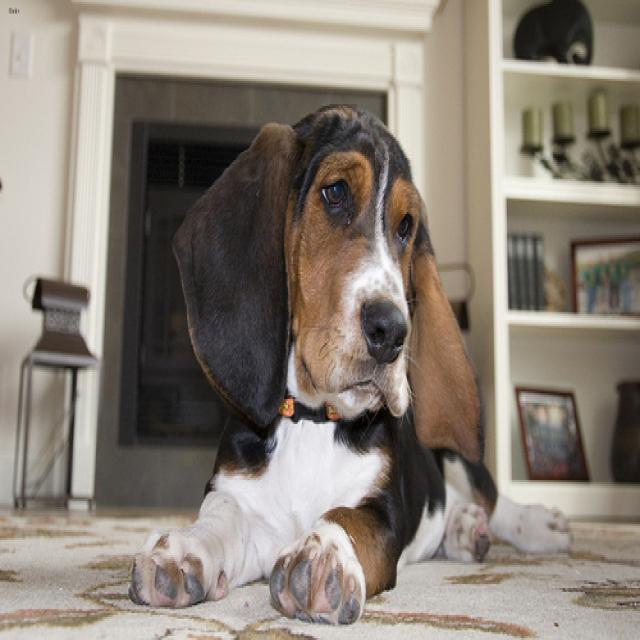dog-basset_hound: (115, 94, 579, 636)
